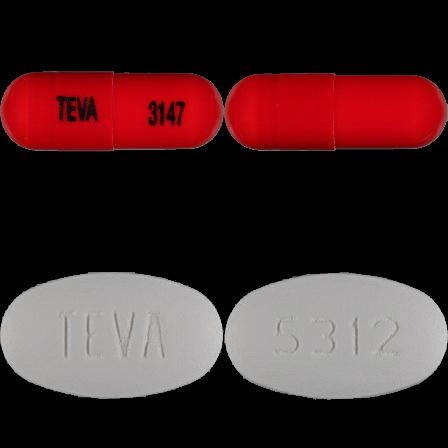53808-0222: (0, 0, 224, 224)
